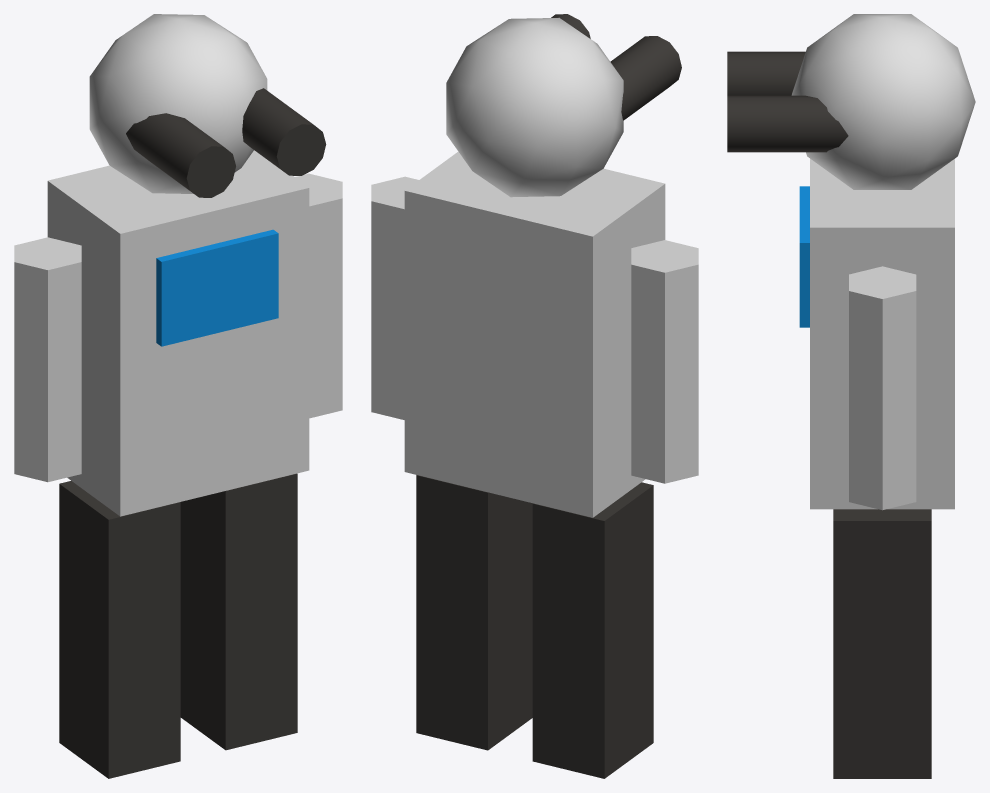
File: D3_trackside_spotters.glb
The picture shows the model from 3 angles, left to right: view 1: azimuth 30°, elevation 25°; view 2: azimuth 150°, elevation 25°; view 3: azimuth 270°, elevation 25°; orthographic projection.
Visible parts, largest first — view 1: instance_white, instance_ink, instance_blue, binoculars_ink; view 2: instance_white, instance_ink, binoculars_ink; view 3: instance_white, instance_ink, binoculars_ink, instance_blue.
Part boxes in pixels (x1,y1,x2,y2): instance_white: (14, 14, 342, 516); instance_ink: (59, 473, 297, 778); instance_blue: (156, 229, 278, 346); binoculars_ink: (126, 88, 326, 197); instance_white: (371, 17, 698, 517); instance_ink: (416, 475, 653, 778); binoculars_ink: (551, 14, 681, 120); instance_white: (791, 14, 975, 510); instance_ink: (833, 509, 931, 778); binoculars_ink: (727, 51, 848, 152); instance_blue: (799, 186, 809, 327).
Bounding box in the file's own units: 0.73 × 1.52 × 0.48.
